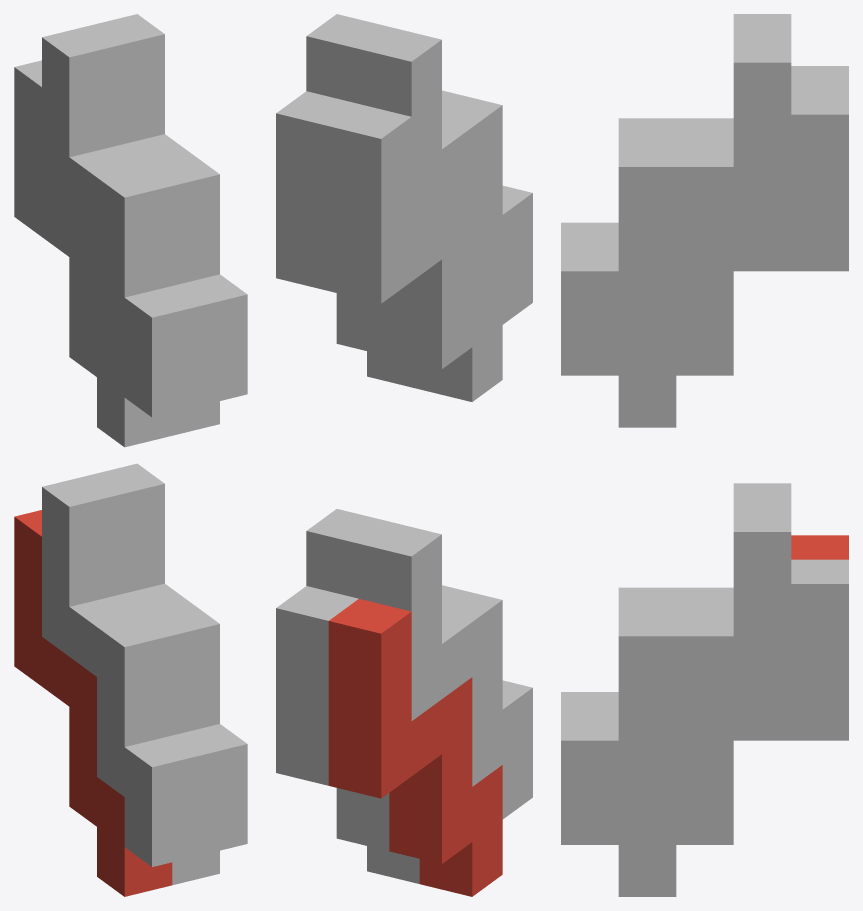
The model's file is tiling.obj.
3 renders of one model, left to right at view 1: azimuth 30°, elevation 25°; view 2: azimuth 150°, elevation 25°; view 3: azimuth 270°, elevation 25°, orthographic. The views are drawn at different scales.
Visible parts, largest first — view 1: copy_1_domain_2, copy_1_domain_4, copy_1_domain_6, copy_1_domain_8, copy_1_domain_1, copy_1_domain_3, copy_1_domain_7, copy_1_domain_5; view 2: copy_1_domain_1, copy_1_domain_3, copy_1_domain_2, copy_1_domain_4, copy_1_domain_5, copy_1_domain_7, copy_1_domain_8, copy_1_domain_6; view 3: copy_1_domain_8, copy_1_domain_6, copy_1_domain_7, copy_1_domain_5, copy_1_domain_2, copy_1_domain_4, copy_1_domain_1, copy_1_domain_3.
Boxes of the visible parts, bbox=[...] form: copy_1_domain_2: bbox=[42, 475, 199, 866]; copy_1_domain_4: bbox=[42, 25, 199, 417]; copy_1_domain_6: bbox=[90, 463, 247, 855]; copy_1_domain_8: bbox=[90, 14, 247, 405]; copy_1_domain_1: bbox=[14, 510, 172, 896]; copy_1_domain_3: bbox=[14, 60, 172, 447]; copy_1_domain_7: bbox=[172, 401, 219, 435]; copy_1_domain_5: bbox=[172, 850, 219, 885]; copy_1_domain_1: bbox=[328, 599, 502, 896]; copy_1_domain_3: bbox=[328, 104, 502, 401]; copy_1_domain_2: bbox=[359, 521, 532, 819]; copy_1_domain_4: bbox=[359, 27, 532, 324]; copy_1_domain_5: bbox=[276, 586, 419, 883]; copy_1_domain_7: bbox=[276, 91, 419, 389]; copy_1_domain_8: bbox=[306, 14, 449, 103]; copy_1_domain_6: bbox=[306, 509, 449, 598]; copy_1_domain_8: bbox=[561, 38, 791, 375]; copy_1_domain_6: bbox=[561, 507, 791, 844]; copy_1_domain_7: bbox=[618, 90, 848, 427]; copy_1_domain_5: bbox=[618, 559, 848, 896]; copy_1_domain_2: bbox=[561, 483, 791, 716]; copy_1_domain_4: bbox=[561, 14, 791, 246]; copy_1_domain_1: bbox=[791, 535, 848, 559]; copy_1_domain_3: bbox=[791, 66, 848, 90].
Size of the model in its own units: 2 by 16 by 5.
